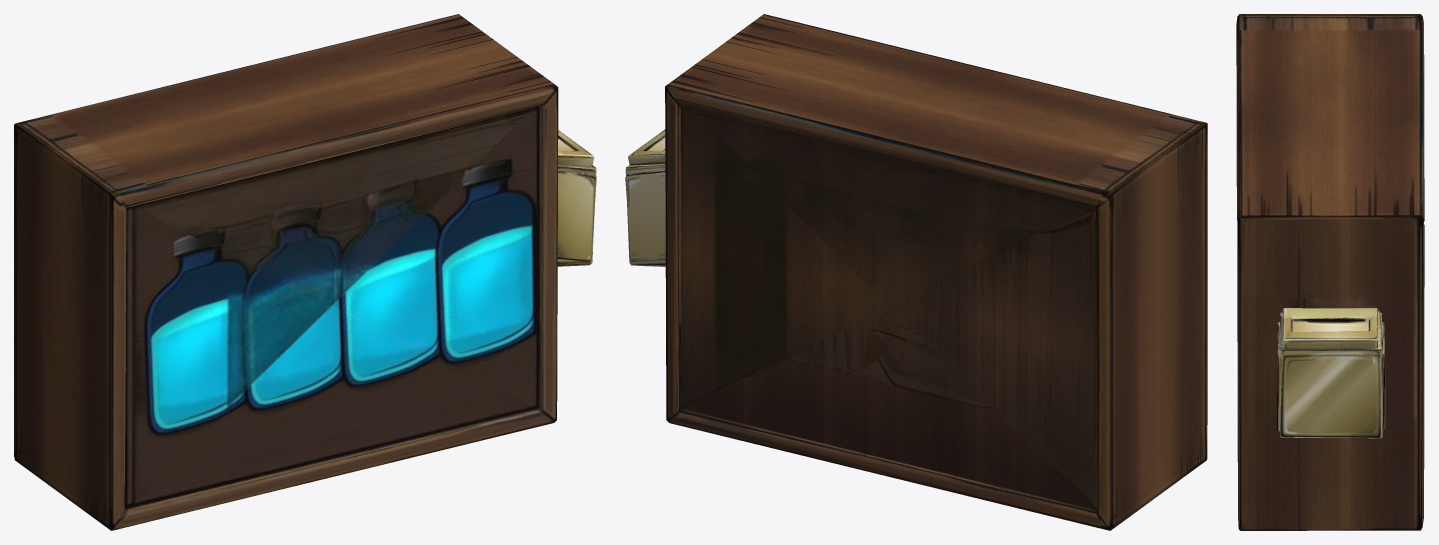
The model's file is deposit_shelf.glb.
3 views of the same model, side by side, from view 1: azimuth 30°, elevation 25°; view 2: azimuth 150°, elevation 25°; view 3: azimuth 270°, elevation 25° (orthographic). The views are drawn at different scales.
Bounding box in the file's own units: 1 × 0.6387 × 0.3447.
1 material, 1 textured.
